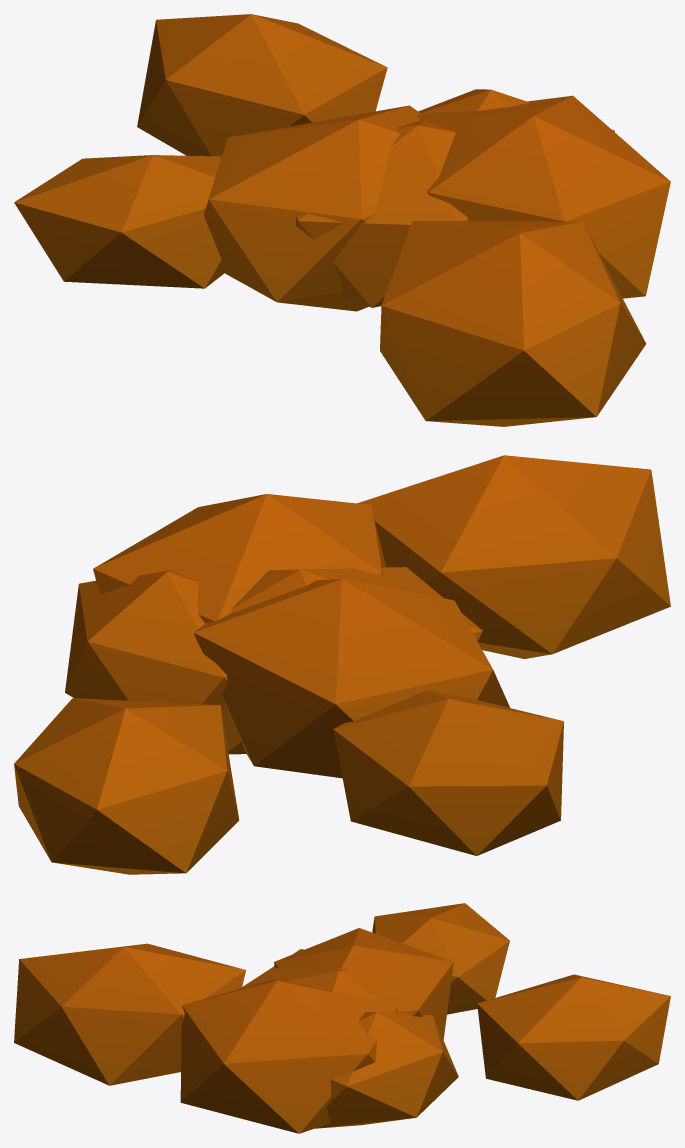
File: SM_Nature_Cailloux_A.fbx
3 views of the same model, one above another, from view 1: azimuth 30°, elevation 25°; view 2: azimuth 150°, elevation 25°; view 3: azimuth 270°, elevation 25° (orthographic). The views are drawn at different scales.
Parts seen in each view (by area): view 1: SM_Nature_Cailloux_A_LOD0; view 2: SM_Nature_Cailloux_A_LOD0; view 3: SM_Nature_Cailloux_A_LOD0.
Boxes of the visible parts, x1=… form: SM_Nature_Cailloux_A_LOD0: x1=14, y1=14, x2=670, y2=426; SM_Nature_Cailloux_A_LOD0: x1=14, y1=455, x2=670, y2=874; SM_Nature_Cailloux_A_LOD0: x1=14, y1=903, x2=670, y2=1133.
Size of what is drawn, in the model's own units: 0.3262 by 0.1188 by 0.4815.
